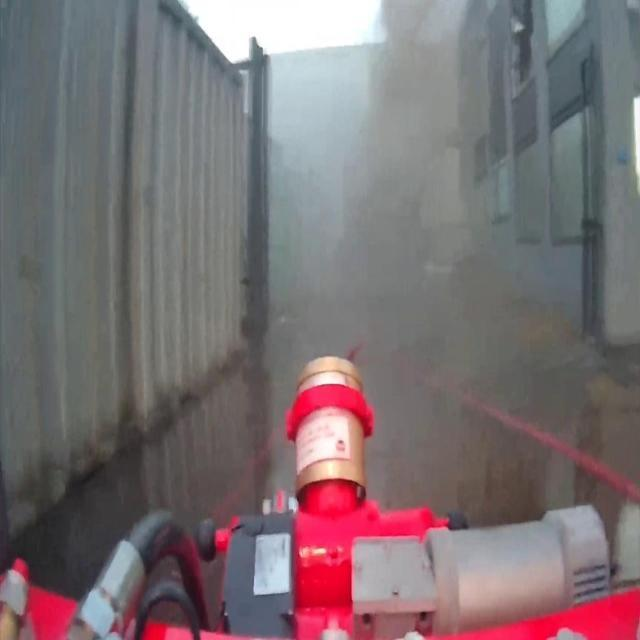Fire: (633, 96, 640, 192)
Smoke: (352, 0, 464, 344)
